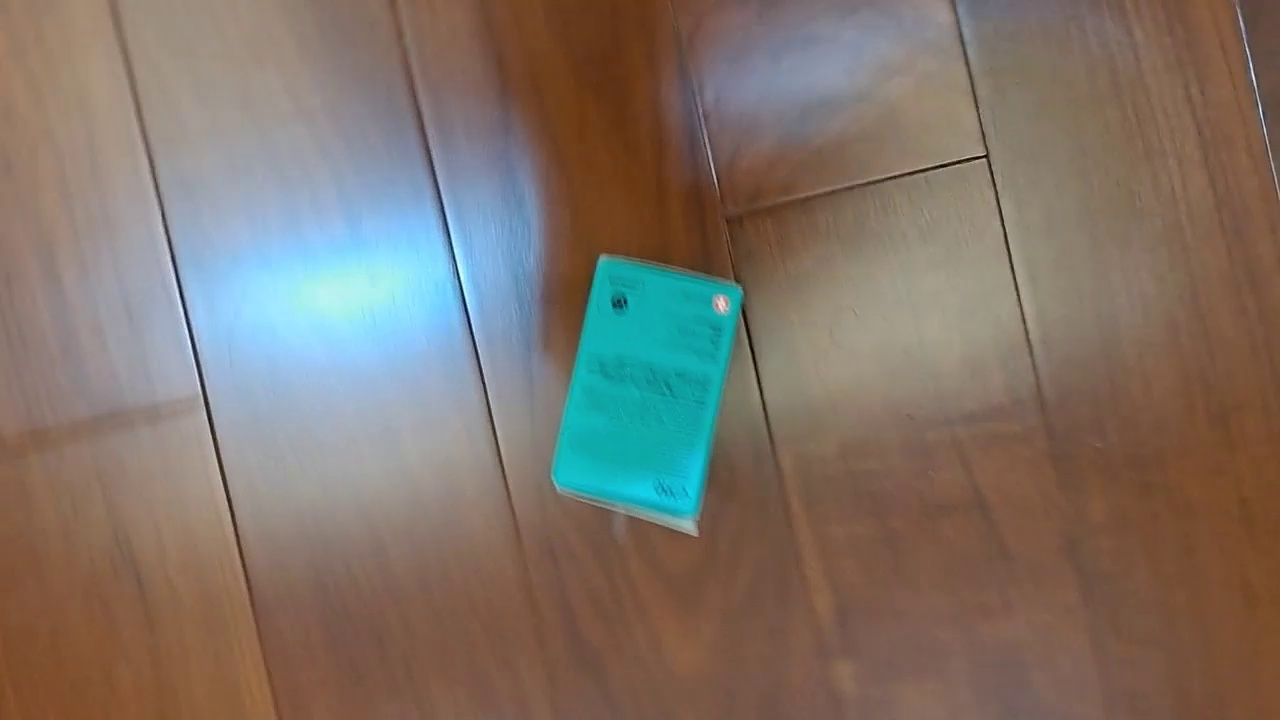webcam: (548, 251, 745, 539)
